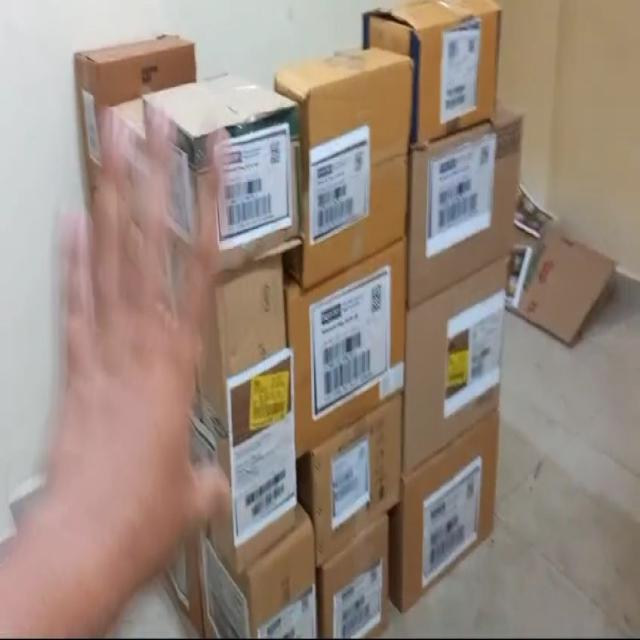BoxFace: (302, 35, 409, 292), (290, 240, 408, 459), (215, 263, 296, 557), (409, 254, 520, 466), (409, 108, 524, 299), (403, 414, 505, 615), (376, 0, 502, 142), (311, 392, 405, 575), (196, 118, 302, 262), (319, 512, 391, 640)
